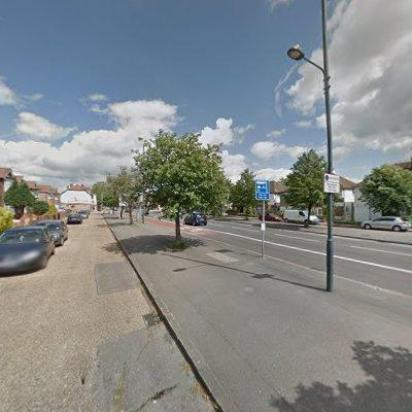moving-car: (184, 211, 208, 227), (258, 210, 284, 224)
moving-light-truck: (284, 208, 320, 226)
stationary-car-onstreet: (0, 226, 54, 276), (360, 214, 408, 234), (34, 221, 68, 247), (66, 213, 82, 225), (76, 209, 90, 219)
